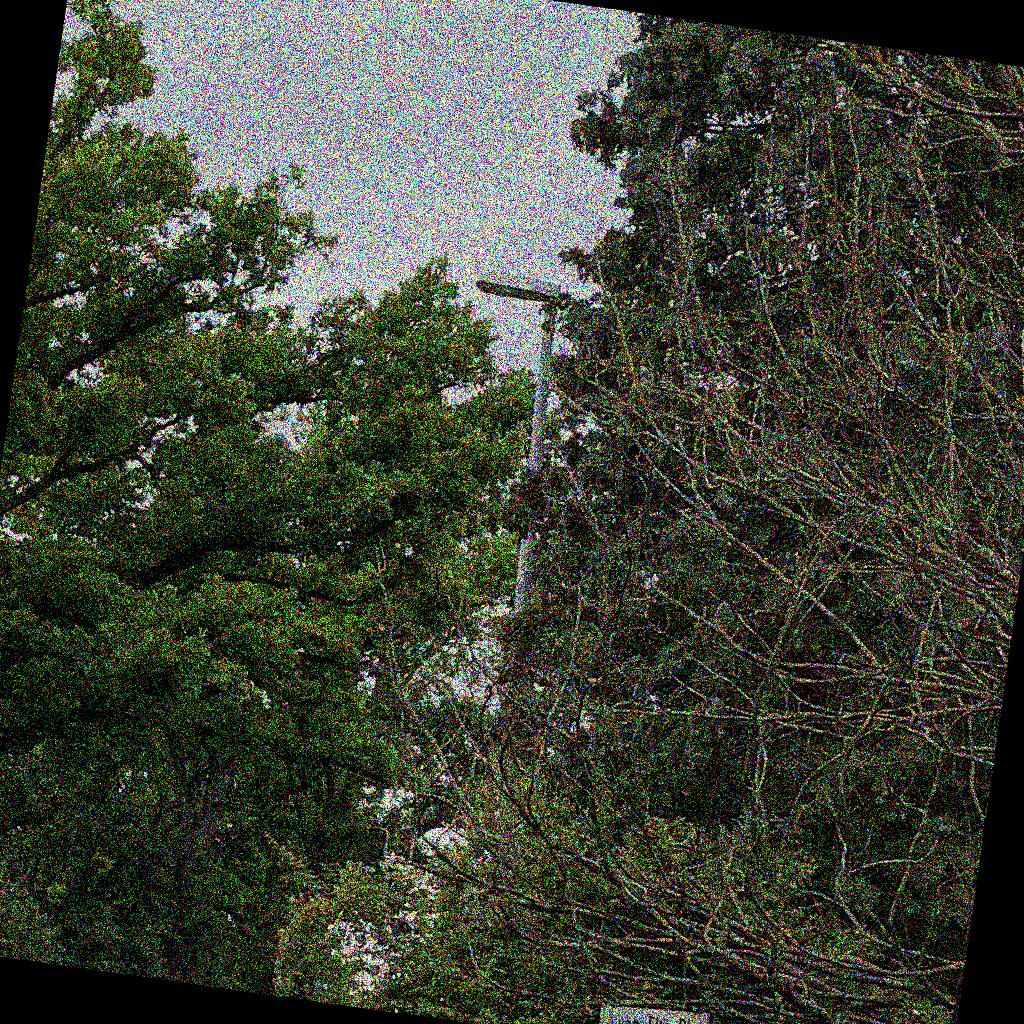tree: (376, 38, 1024, 1023), (483, 14, 1024, 959), (1, 1, 470, 997), (303, 251, 538, 645)
